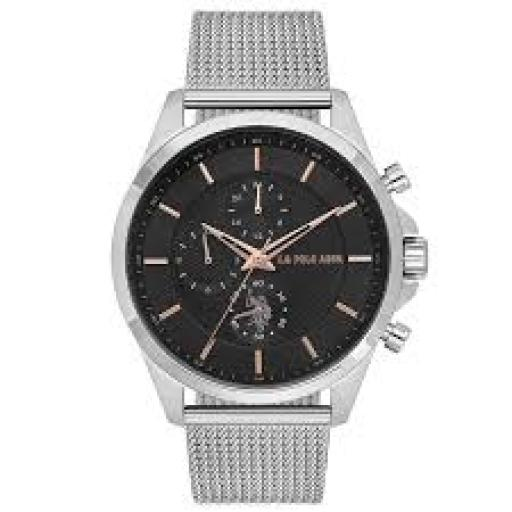KolSaati: (116, 6, 447, 512)
